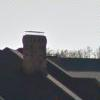Chimney: (15, 23, 48, 76)
